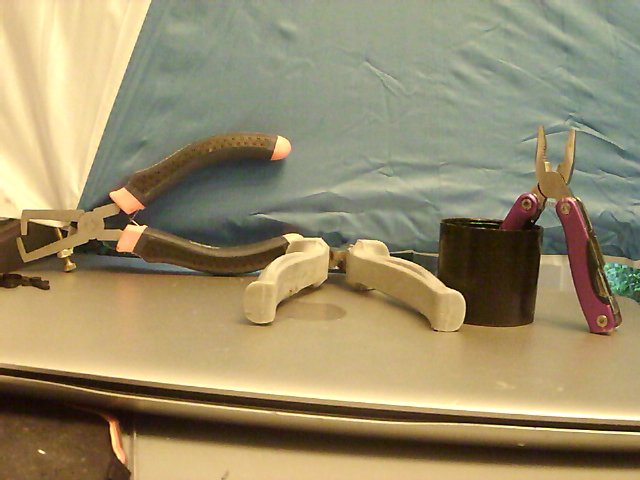pliers: (501, 119, 624, 335), (241, 234, 473, 332)
